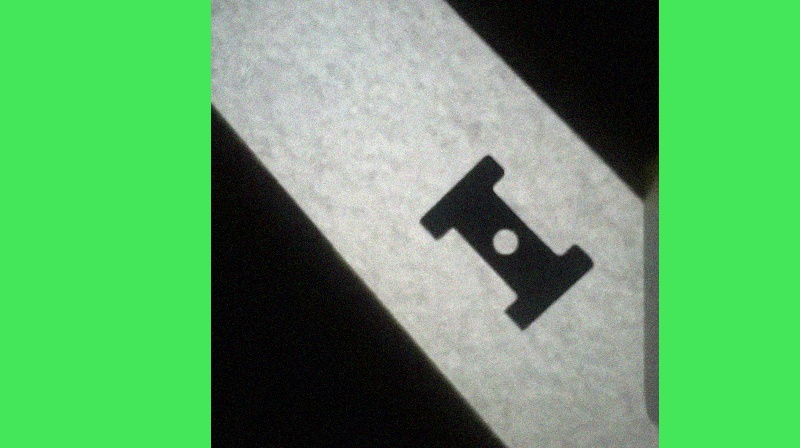O002: (418, 149, 597, 333)
